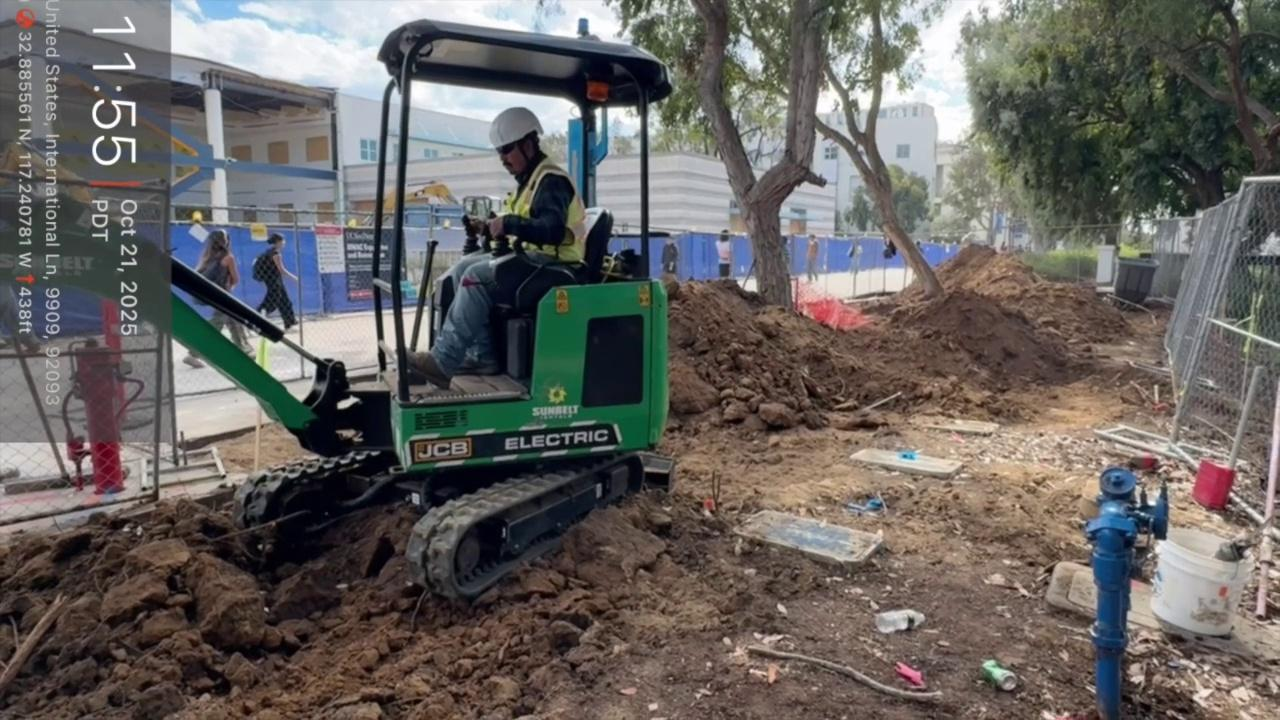Exacavator: (0, 5, 716, 617)
